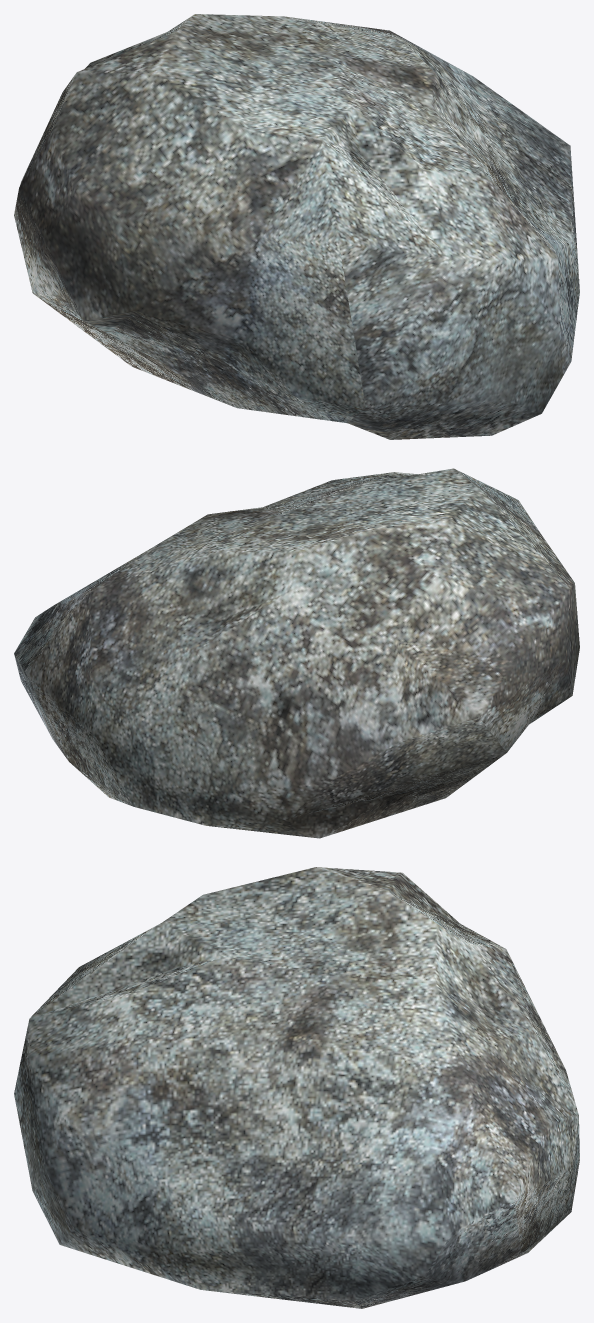
File: Rock2B.fbx
3 renders of one model, top to bottom at view 1: azimuth 30°, elevation 25°; view 2: azimuth 150°, elevation 25°; view 3: azimuth 270°, elevation 25°, orthographic. The views are drawn at different scales.
Parts seen in each view (by area): view 1: Rock2B__200tris_Group14663; view 2: Rock2B__200tris_Group14663; view 3: Rock2B__200tris_Group14663.
Boxes of the visible parts, x1,y1,x2,y2 form: Rock2B__200tris_Group14663: (14, 14, 579, 439); Rock2B__200tris_Group14663: (14, 468, 579, 838); Rock2B__200tris_Group14663: (14, 867, 579, 1308).
Size of the model in its own units: 2.67 by 1.42 by 2.56.
